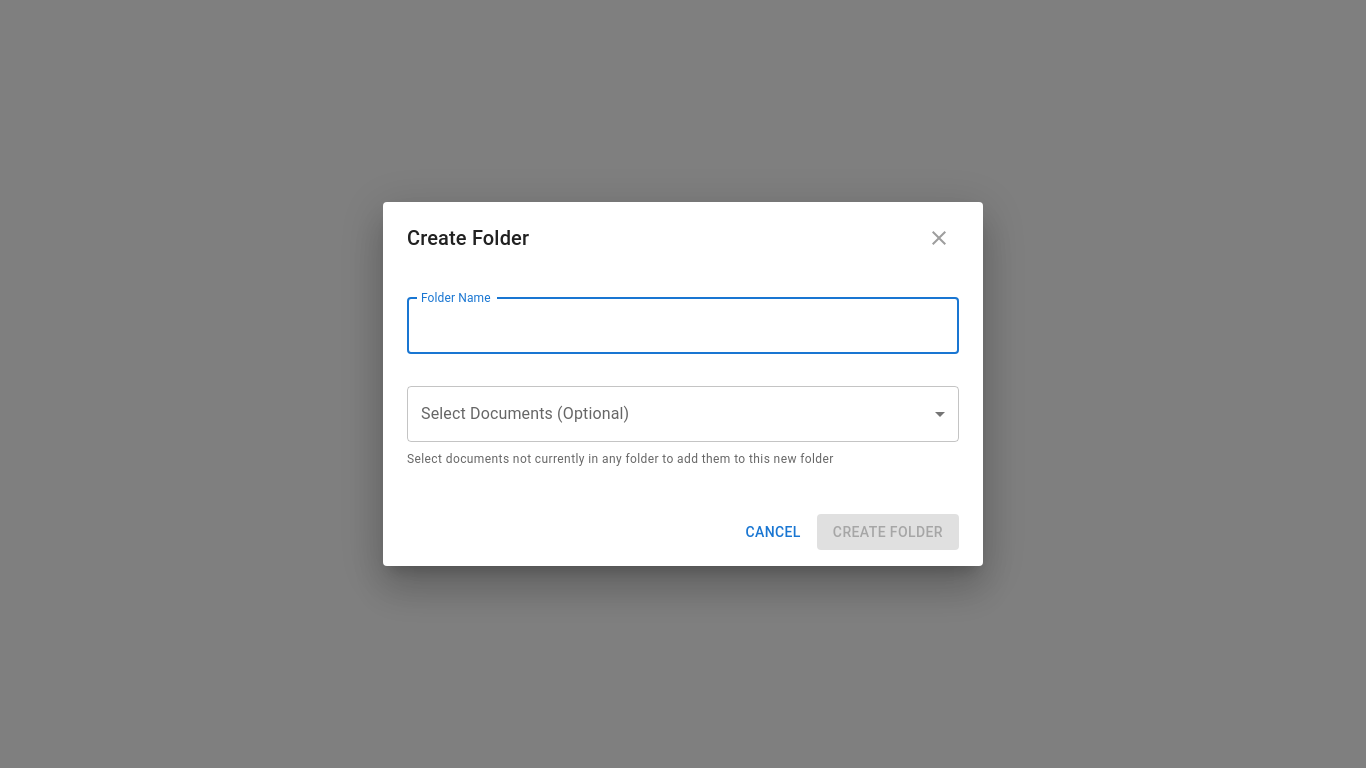
Test: CreateFolderModal › should display error when folder creation fails
Type "New Folder" into the field labelled "Folder Name". click: (683, 326)
box: [407,298,959,354]
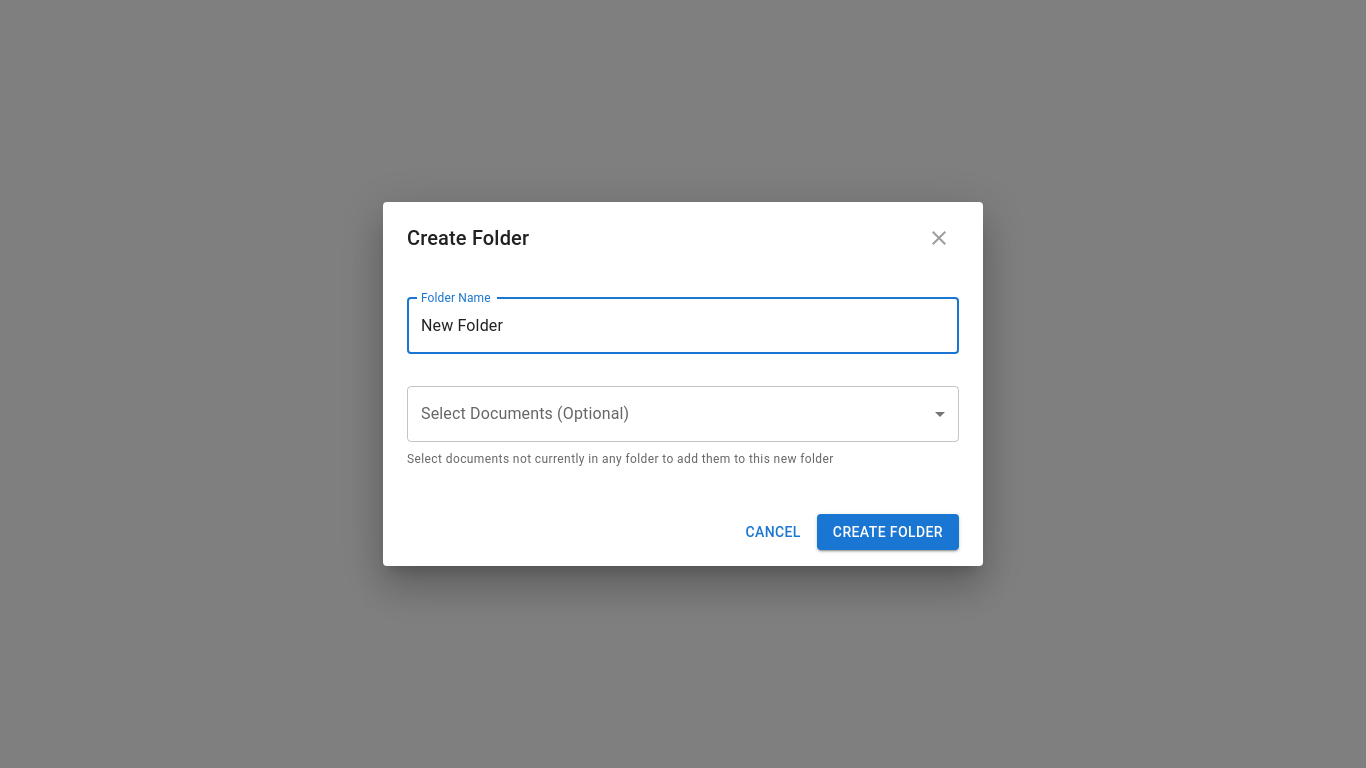
Expected: the button with test id "create-folder-submit-button" is enabled
Click the button with test id "create-folder-submit-button". click: (888, 532)
box: [817,514,959,550]
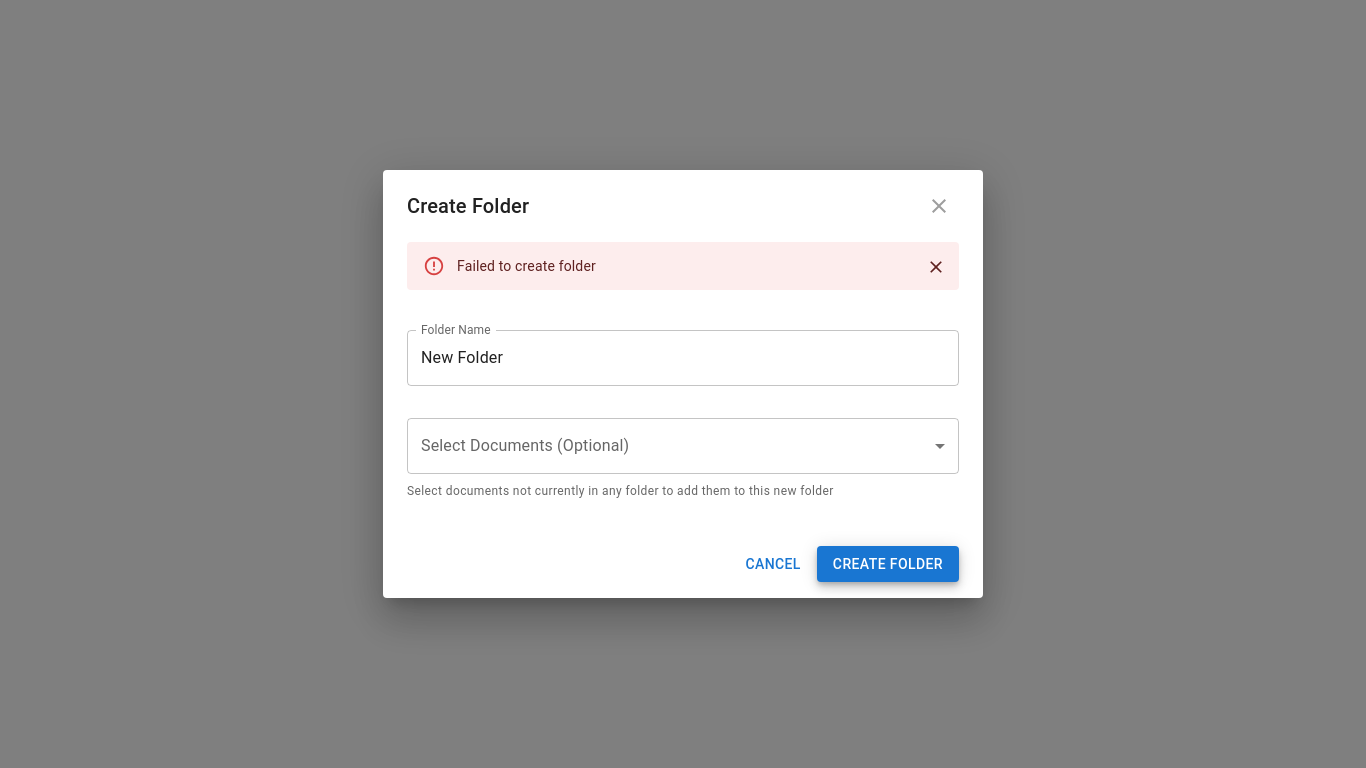
Expected: the message with test id "create-folder-error-alert" reads "Failed to create folder", [457,258,596,274]
